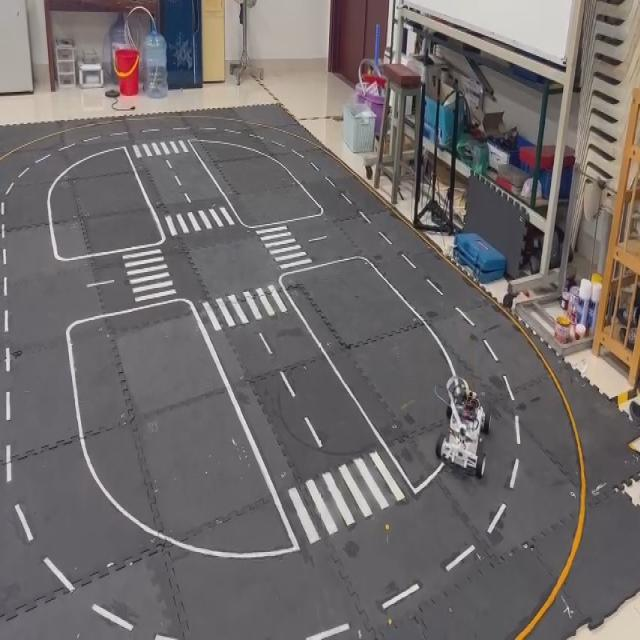SiCo-CAR: (435, 373, 491, 479)
